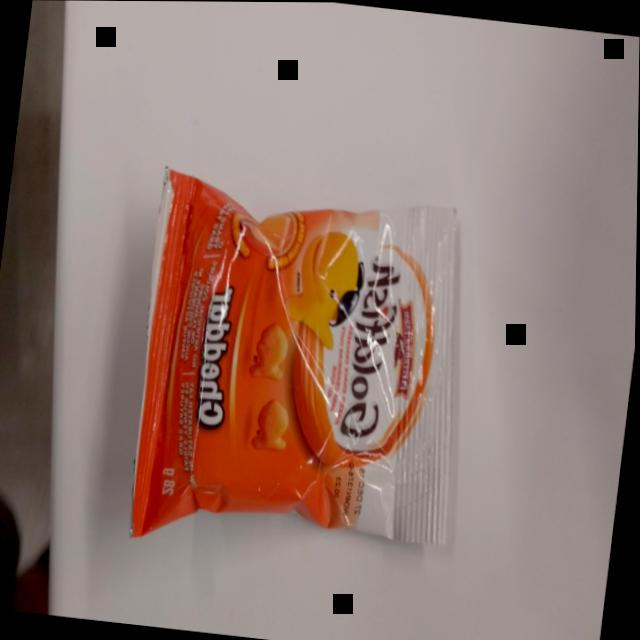crackers: (116, 160, 494, 578)
